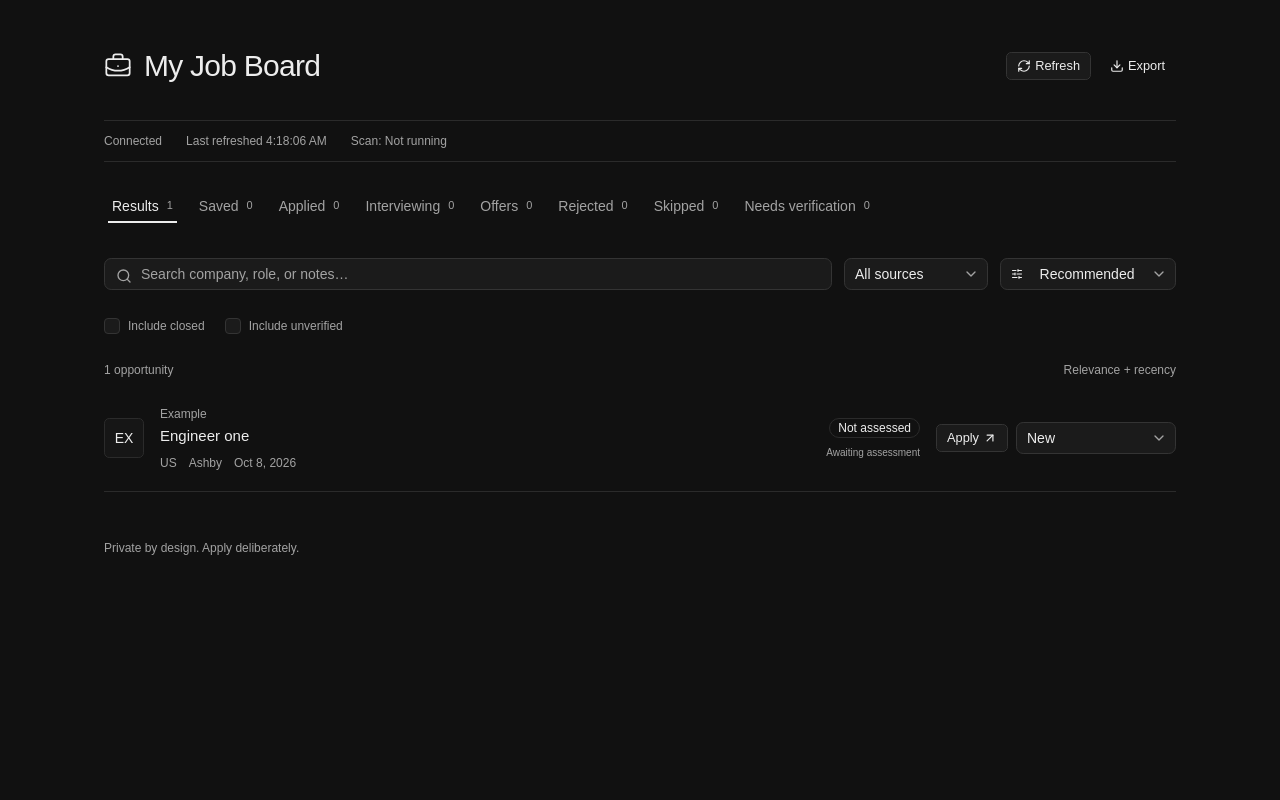
Test: failed saves retain notes and status membership
Step 1. Click the button "Engineer one" → [205, 436], box top-left (160, 426), bottom-right (249, 447)
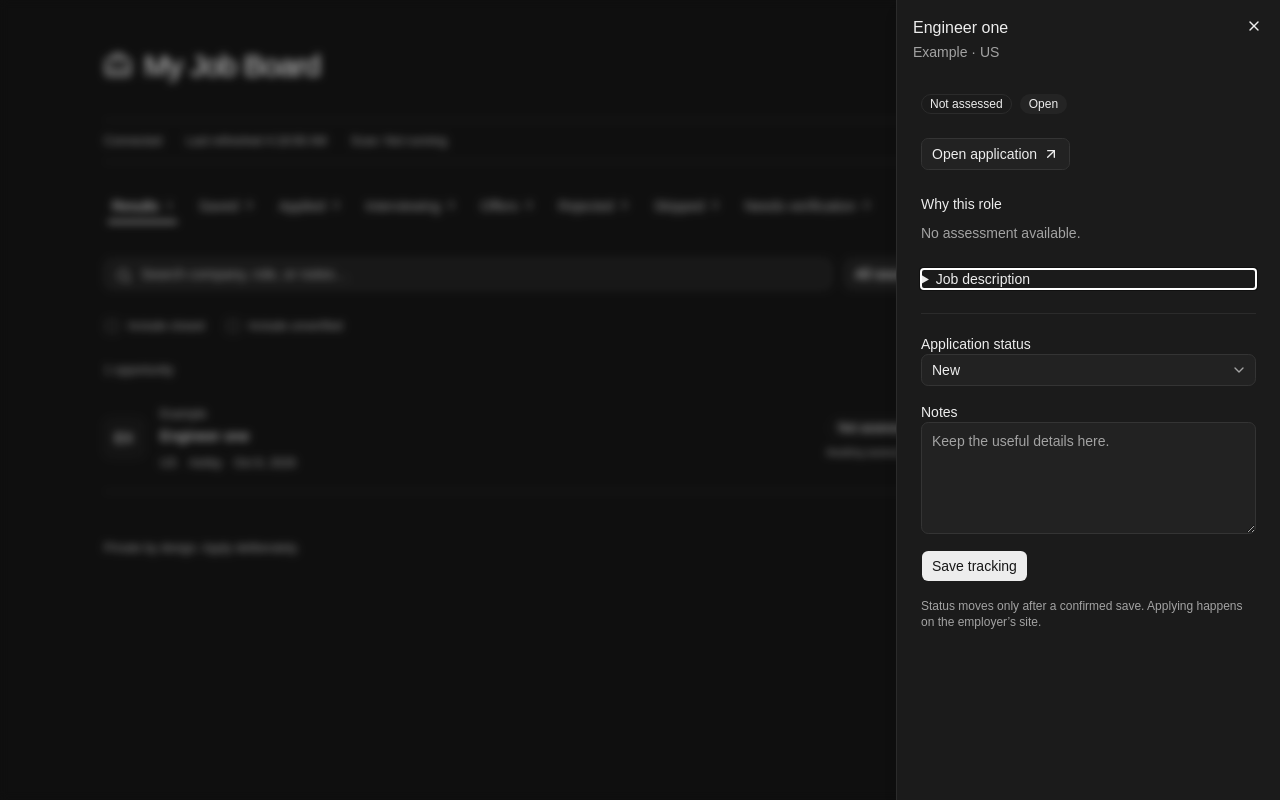
Step 2. Type "My notes" into the text box labelled "Notes" → [1088, 478], box top-left (921, 422), bottom-right (1256, 534)
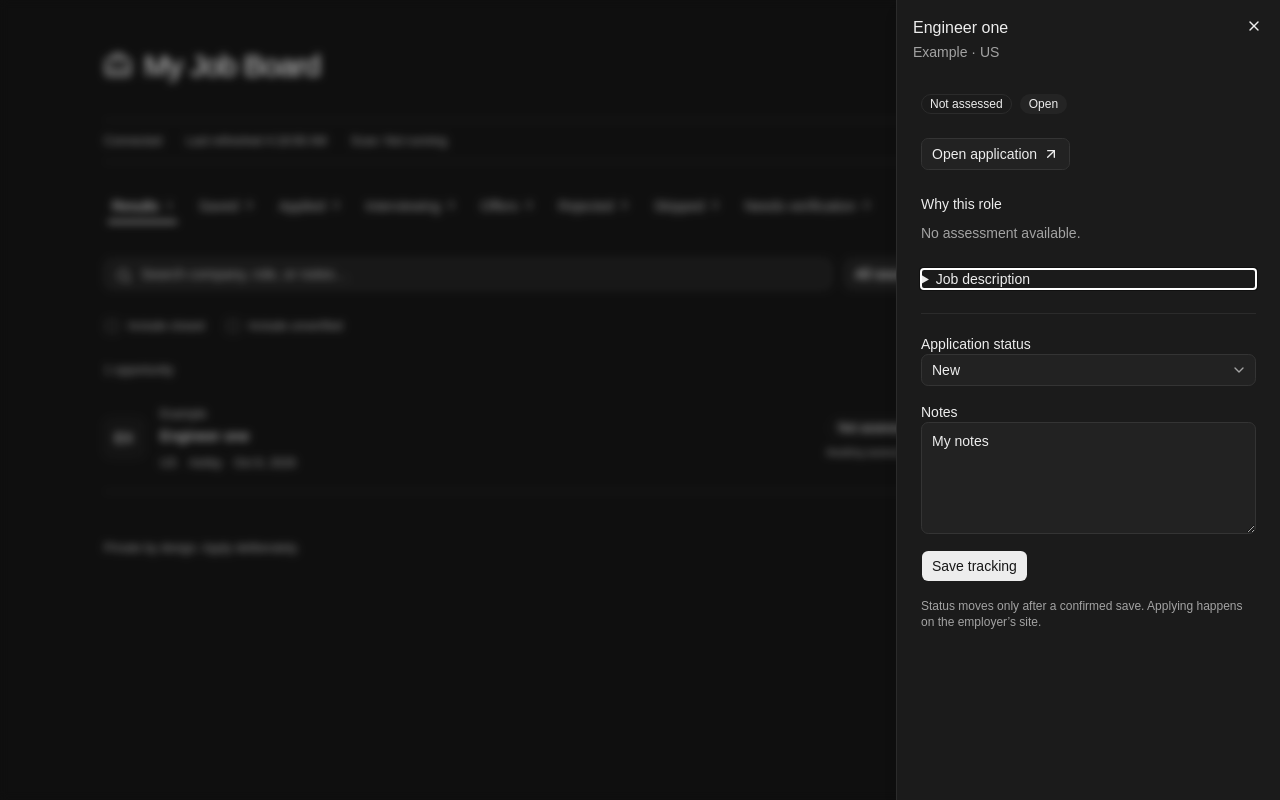
Step 3. Click the button "Save tracking" → [974, 566], box top-left (921, 550), bottom-right (1028, 582)
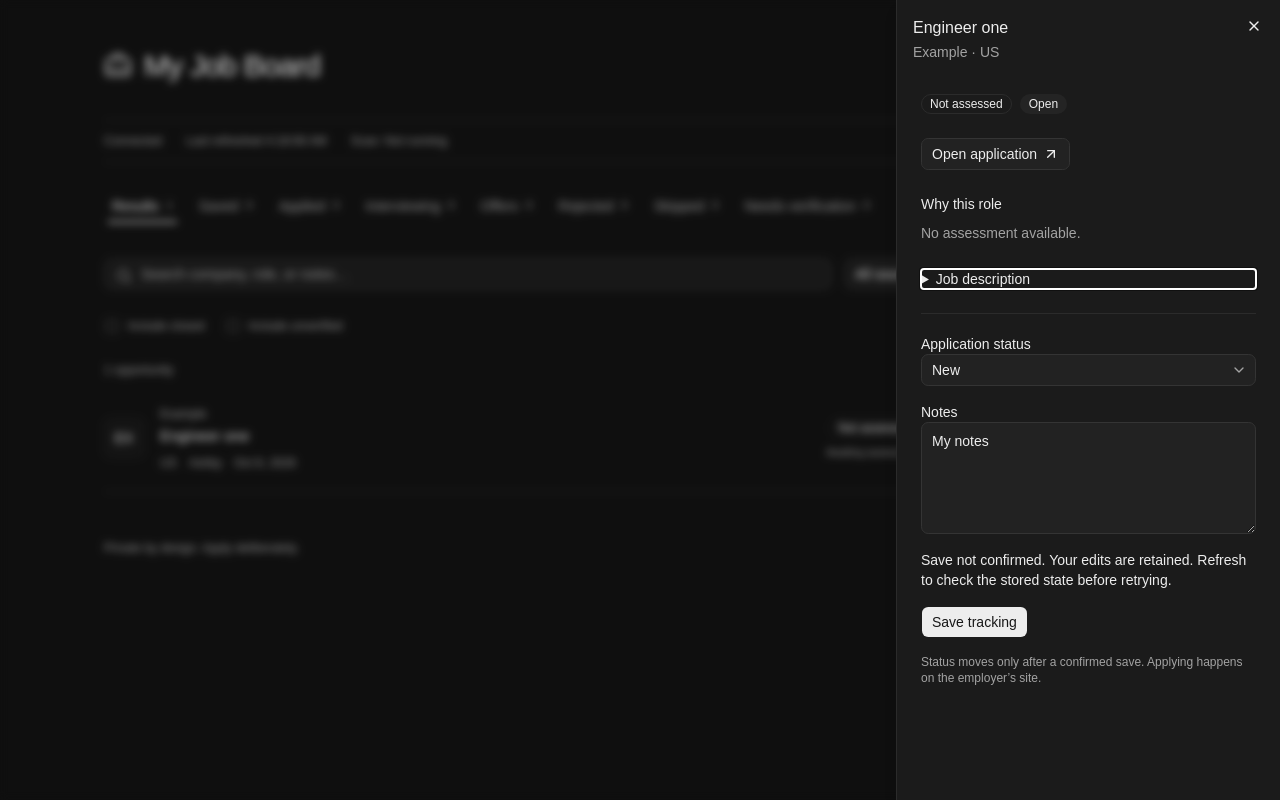
Check: the button "Engineer one" is shown, box top-left (160, 426), bottom-right (249, 447)
Check: the message is shown, box top-left (921, 550), bottom-right (1256, 590)
